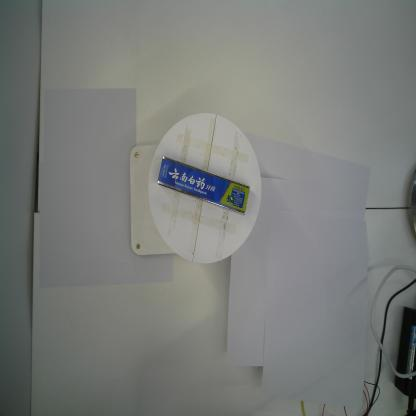Personal Hygiene: (157, 155, 253, 214)
